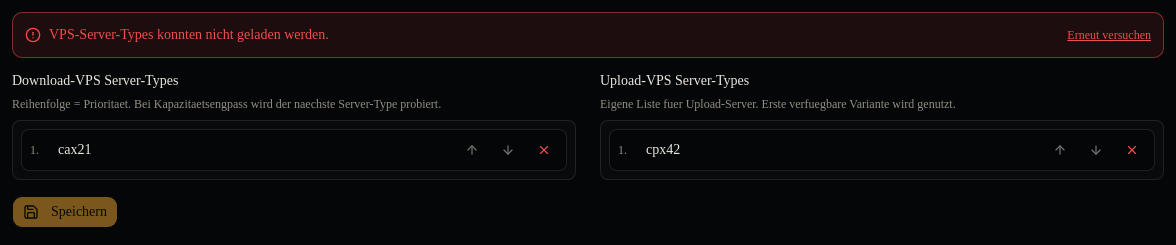
Test: VpsServerTypesConfig › zeigt Fehlermeldung wenn Config-Laden fehlschlaegt und ermoeglicht Retry
Check: the text "VPS-Server-Types konnten nicht geladen werden." is shown, box [49,27,329,42]
Check: the button "Speichern" is disabled, box [12,196,118,228]
Step 1. Click the button "Erneut versuchen" → x=1109, y=35, box [1067,27,1151,43]
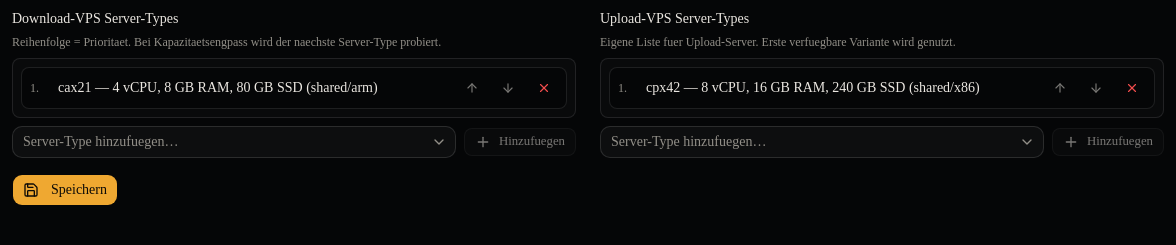
Check: the button "Speichern" is enabled, box [12,174,118,206]
